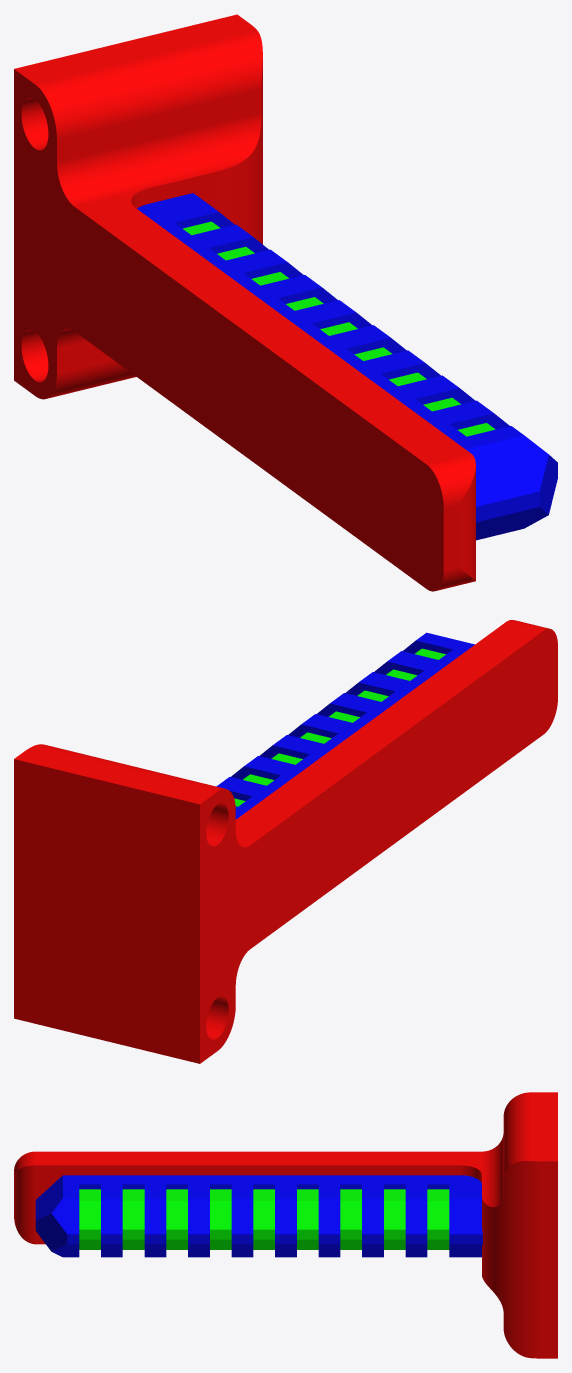
File: shieldwall_endcap.gltf
3 renders of one model, top to bottom at view 1: azimuth 30°, elevation 25°; view 2: azimuth 150°, elevation 25°; view 3: azimuth 270°, elevation 25°, orthographic. The views are drawn at different scales.
Visible parts, largest first — view 1: frame_part, mesh_part, window_part; view 2: frame_part, mesh_part, window_part; view 3: frame_part, mesh_part, window_part.
Boxes of the visible parts, left/top/right/bottom form: frame_part: left=14, top=14, right=475, bottom=591; mesh_part: left=137, top=193, right=557, bottom=540; window_part: left=183, top=221, right=495, bottom=436; frame_part: left=14, top=620, right=557, bottom=1063; mesh_part: left=216, top=632, right=474, bottom=819; window_part: left=234, top=648, right=445, bottom=806; frame_part: left=14, top=1092, right=557, bottom=1358; mesh_part: left=35, top=1175, right=482, bottom=1257; window_part: left=79, top=1189, right=449, bottom=1249.
Bounding box in the file's own units: 15 × 20 × 50.
